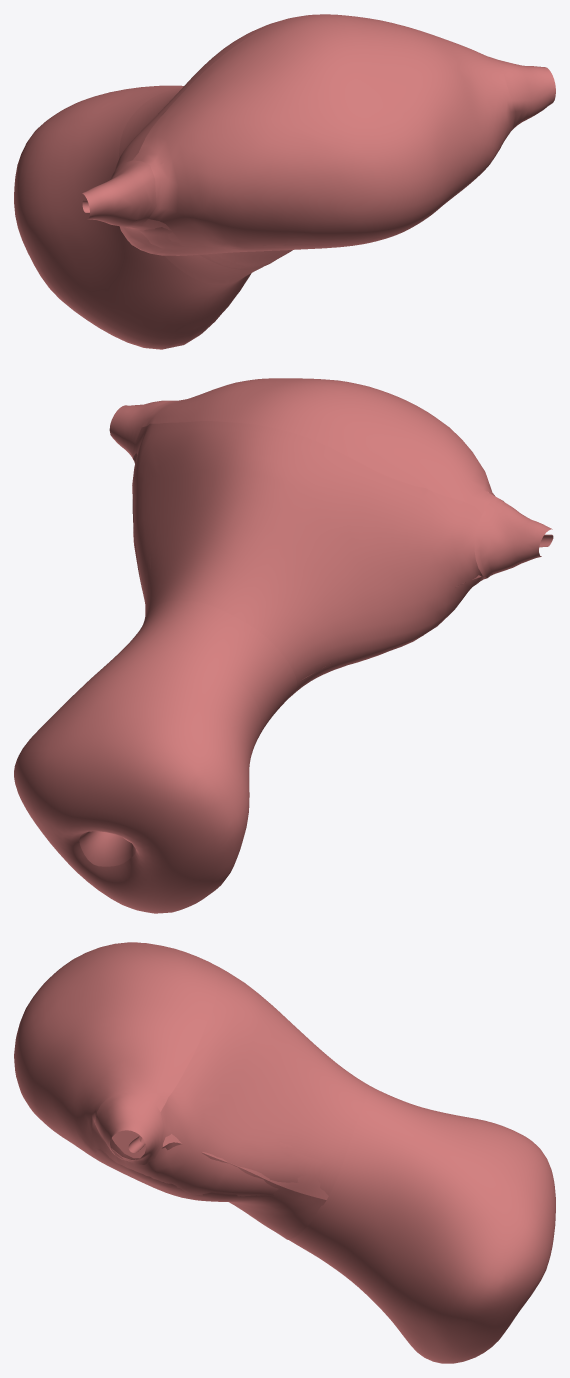
File: reproductive.glb
The picture shows the model from 3 angles, top to bottom: view 1: azimuth 30°, elevation 25°; view 2: azimuth 150°, elevation 25°; view 3: azimuth 270°, elevation 25°; orthographic projection. The views are drawn at different scales.
Parts seen in each view (by area): view 1: VH_F_abdominal_ostium_of_uterine_tube, VH_F_posterior_wall_of_uterus; view 2: VH_F_abdominal_ostium_of_uterine_tube; view 3: VH_F_abdominal_ostium_of_uterine_tube, VH_F_posterior_wall_of_uterus.
Part boxes in pixels (x1=…): VH_F_abdominal_ostium_of_uterine_tube: x1=14, y1=14, x2=555, y2=349; VH_F_posterior_wall_of_uterus: x1=140, y1=146, x2=501, y2=269; VH_F_abdominal_ostium_of_uterine_tube: x1=14, y1=378, x2=553, y2=913; VH_F_abdominal_ostium_of_uterine_tube: x1=14, y1=942, x2=555, y2=1363; VH_F_posterior_wall_of_uterus: x1=40, y1=1109, x2=328, y2=1239.
Size of the model in its own units: 0.0525 by 0.047 by 0.0587.
